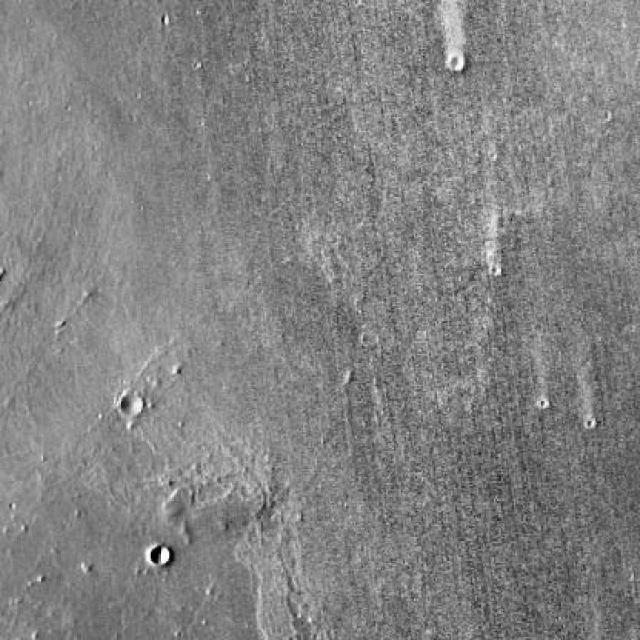crater: (121, 398, 142, 418), (153, 547, 170, 562)
